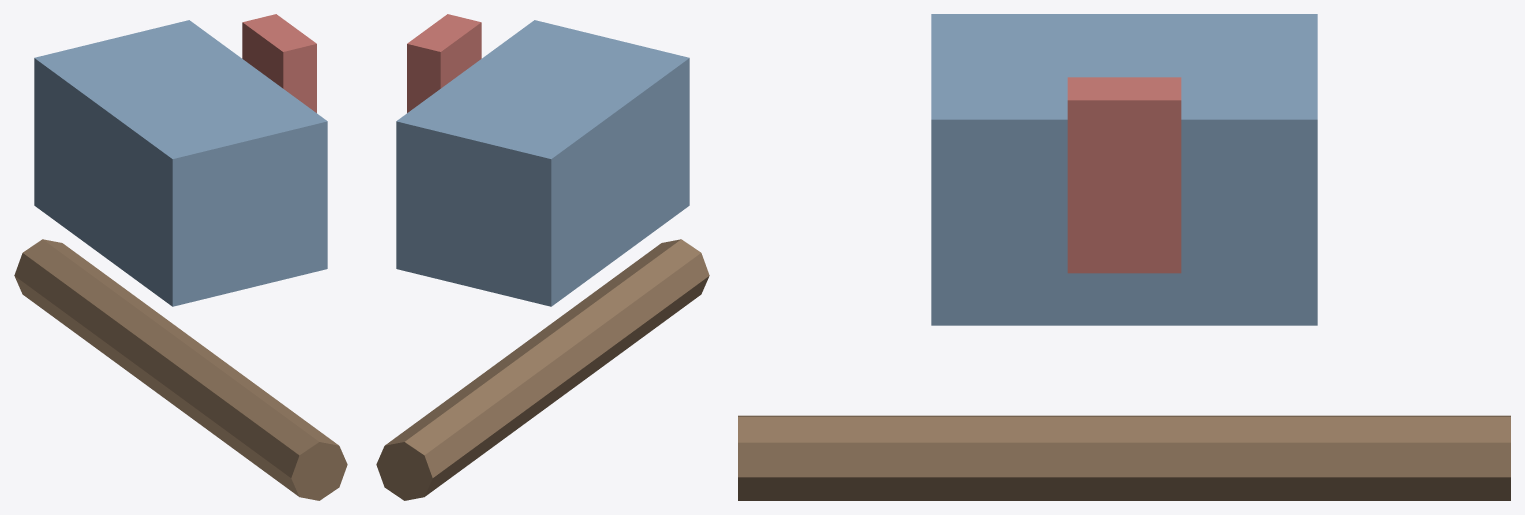
File: mailbox.glb
3 renders of one model, left to right at view 1: azimuth 30°, elevation 25°; view 2: azimuth 150°, elevation 25°; view 3: azimuth 270°, elevation 25°, orthographic. The views are drawn at different scales.
Parts seen in each view (by area): view 1: mailbox_0, mailbox_1, mailbox_2; view 2: mailbox_0, mailbox_1, mailbox_2; view 3: mailbox_0, mailbox_1, mailbox_2.
Part boxes in pixels (x1,y1,x2,y2): mailbox_0: [34, 20, 327, 306]; mailbox_1: [14, 239, 347, 500]; mailbox_2: [242, 14, 316, 112]; mailbox_0: [396, 20, 689, 306]; mailbox_1: [376, 239, 709, 500]; mailbox_2: [407, 14, 481, 112]; mailbox_0: [931, 14, 1317, 325]; mailbox_1: [738, 415, 1510, 500]; mailbox_2: [1067, 77, 1181, 273].
Size of the model in its own units: 0.685 by 1.16 by 1.7.
